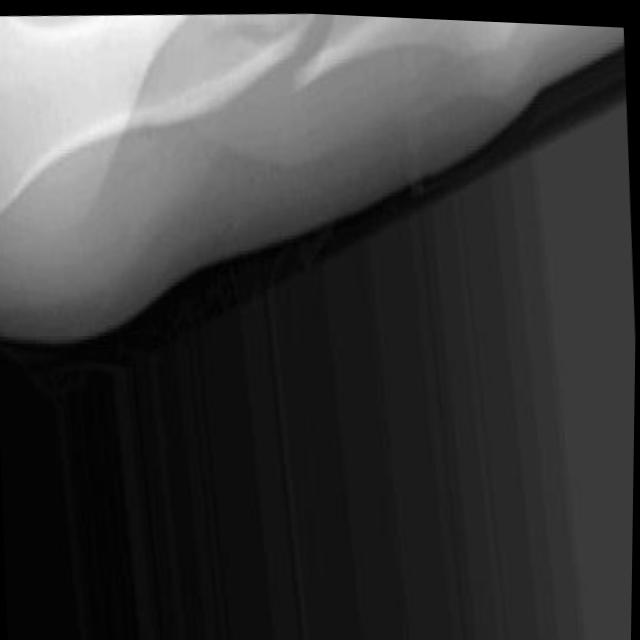fracture: (261, 9, 353, 109)
